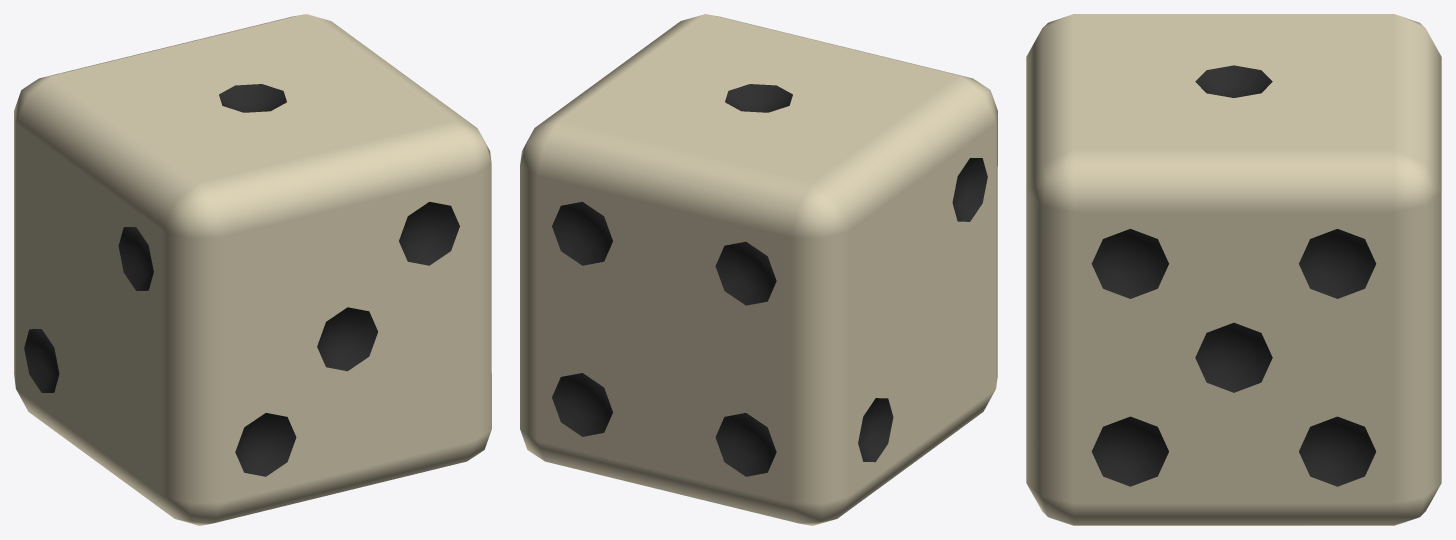
File: dicea_LOD1.fbx
The picture shows the model from 3 angles, left to right: view 1: azimuth 30°, elevation 25°; view 2: azimuth 150°, elevation 25°; view 3: azimuth 270°, elevation 25°; orthographic projection. The views are drawn at different scales.
Visible parts, largest first — view 1: DiceA_LOD000; view 2: DiceA_LOD000; view 3: DiceA_LOD000.
Part boxes in pixels (x1,y1,x2,y2): DiceA_LOD000: [14, 14, 491, 525]; DiceA_LOD000: [520, 14, 997, 525]; DiceA_LOD000: [1026, 14, 1441, 525].
Bounding box in the file's own units: 100 × 100 × 100.
